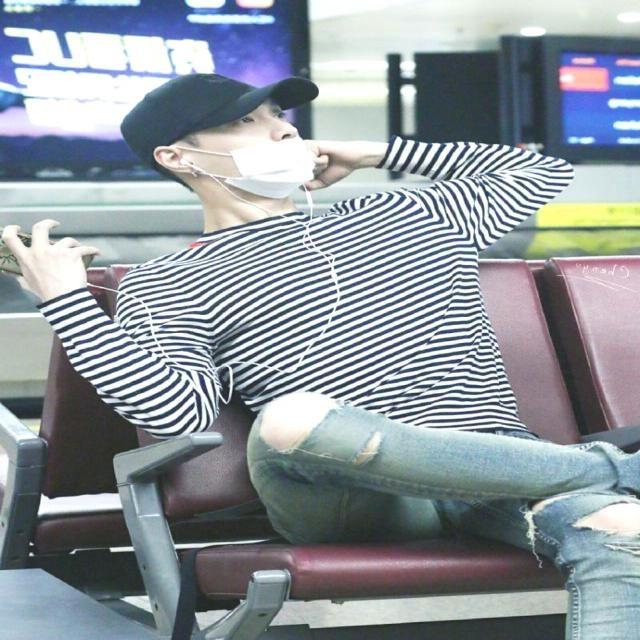hairnet: (212, 122, 314, 198)
